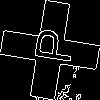P: (25, 25, 75, 65)
